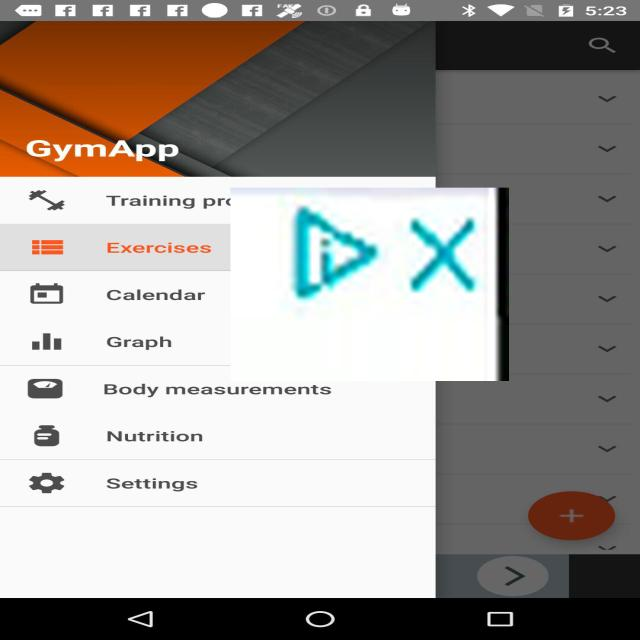sneaking: (231, 188, 509, 381)
